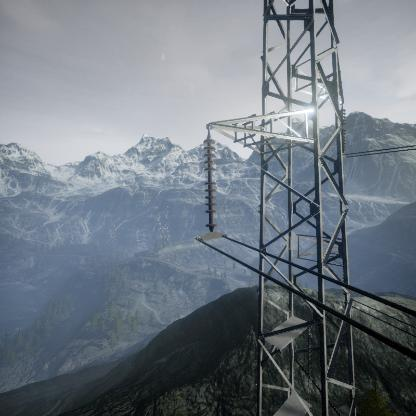insulator: (201, 136, 219, 231)
